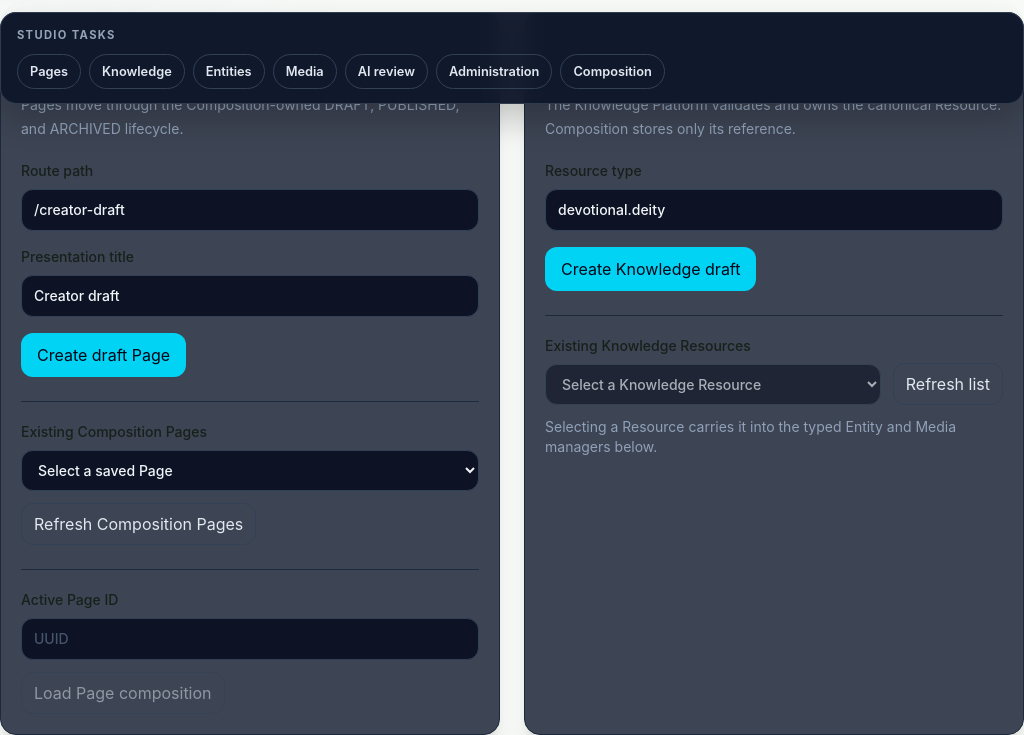
it: Creator workspace › lists and selects existing Knowledge without requiring a memorized Resource ID
(page scrolled)
Click the button "Refresh list" at (948, 384), box [893,363,1003,405]
(page scrolled)
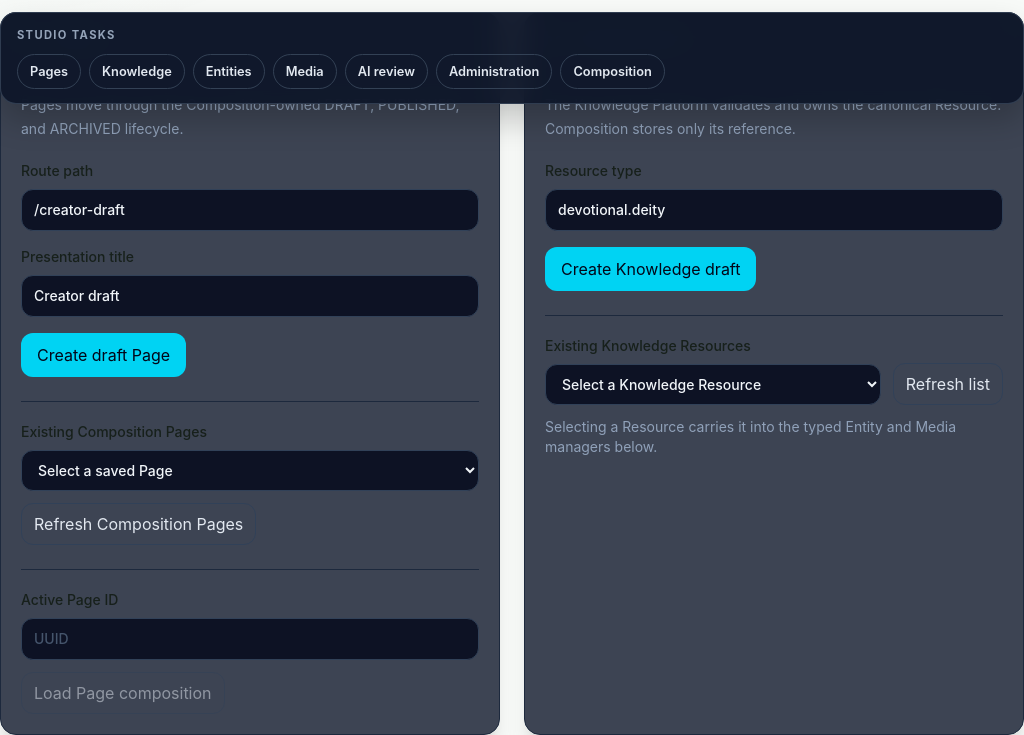
Select "devotional.deity — DRAFT" in the dropdown labelled "Existing Knowledge Resources" at (713, 385), box [545,364,881,405]
(page scrolled)
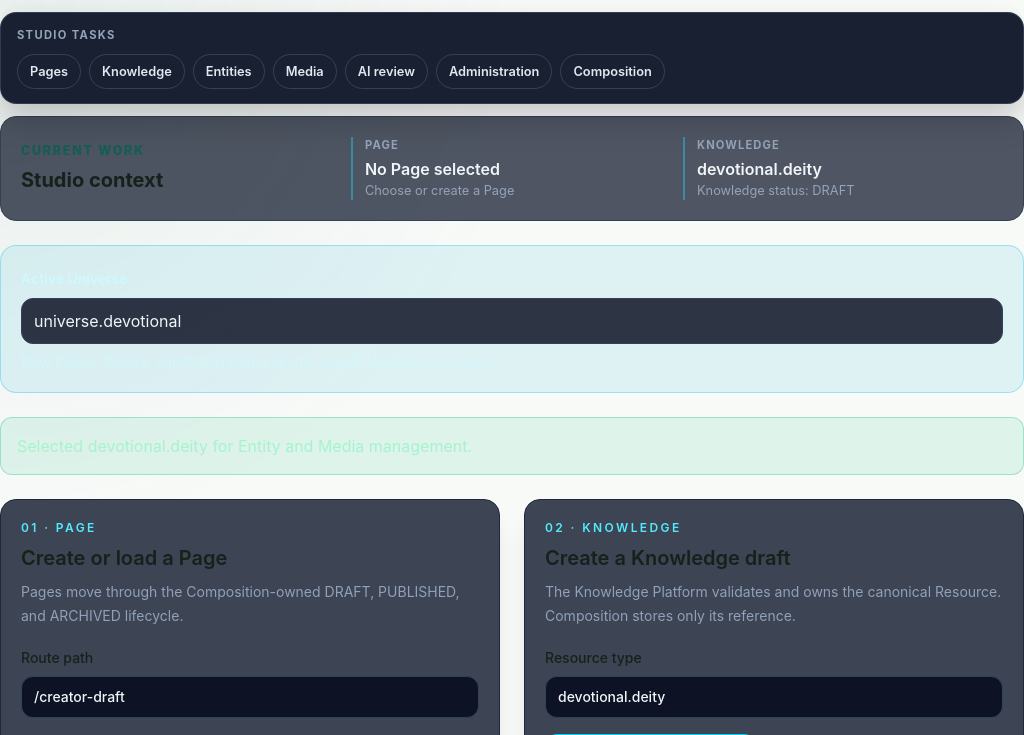
Now the text "Knowledge status: DRAFT" is shown, box [697,183,854,198]
